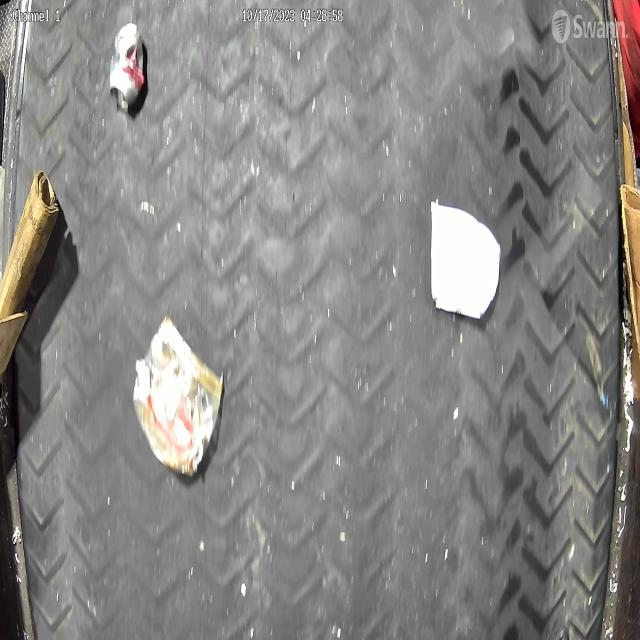can: (111, 22, 147, 112)
